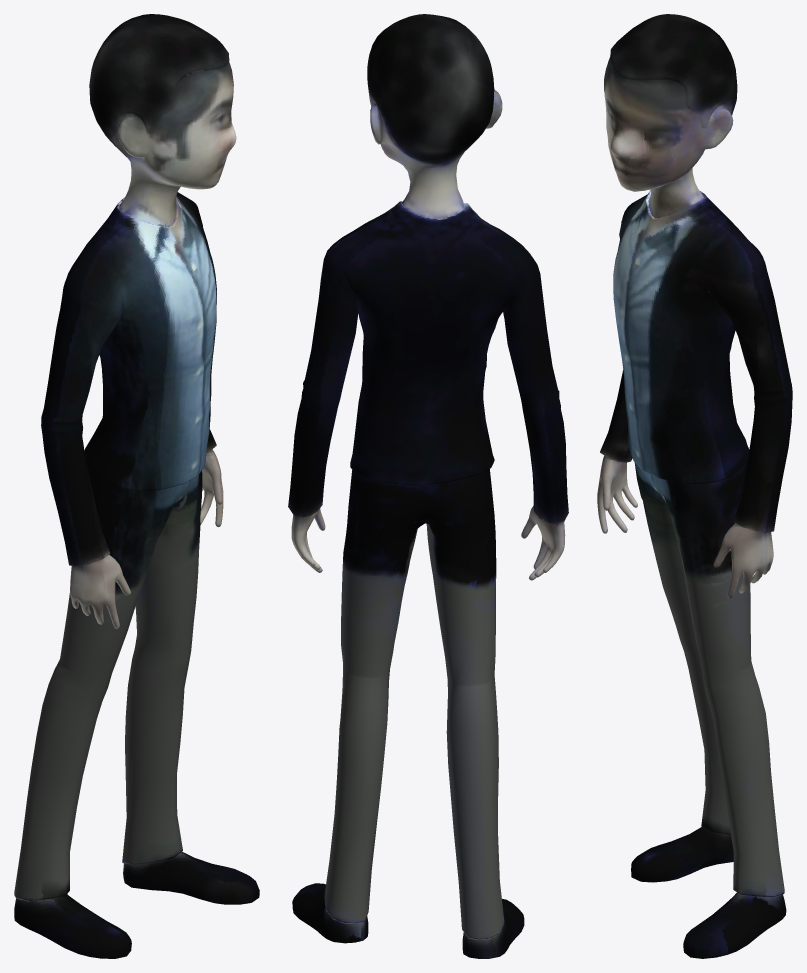
File: maaz.gltf
3 renders of one model, left to right at view 1: azimuth 30°, elevation 25°; view 2: azimuth 150°, elevation 25°; view 3: azimuth 270°, elevation 25°, orthographic. The views are drawn at different scales.
Parts seen in each view (by area): view 1: root; view 2: root; view 3: root.
Boxes of the visible parts, x1=… form: root: x1=14, y1=14, x2=259, y2=958; root: x1=288, y1=14, x2=568, y2=958; root: x1=597, y1=14, x2=792, y2=958.
Size of the model in its own units: 38.59 by 141 by 28.25.
1 material, 1 textured.
